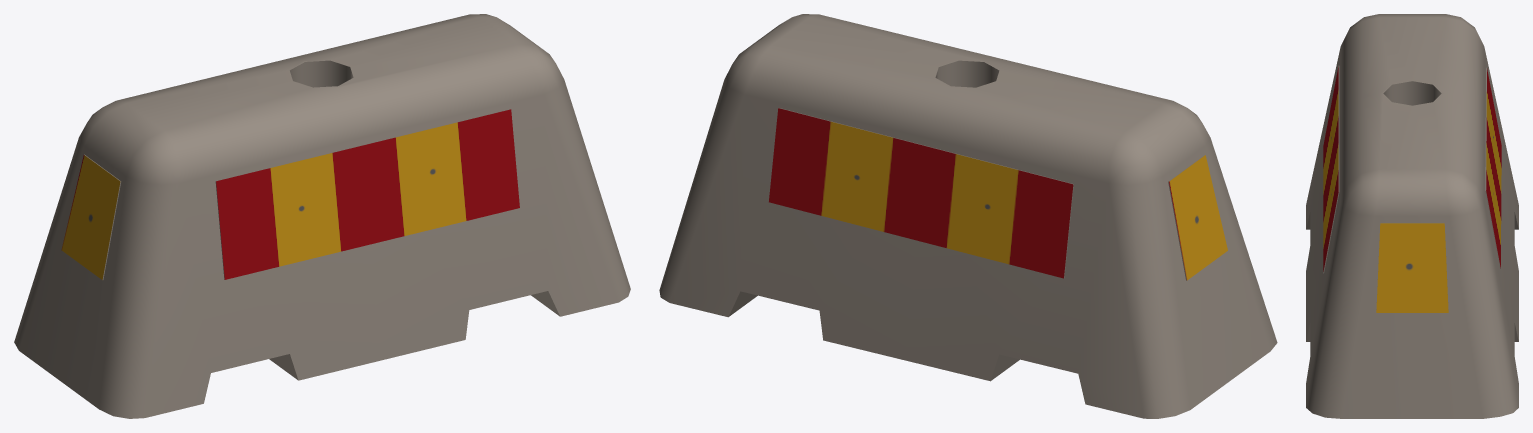
The model's file is cement_roadblock.glb.
3 renders of one model, left to right at view 1: azimuth 30°, elevation 25°; view 2: azimuth 150°, elevation 25°; view 3: azimuth 270°, elevation 25°, orthographic. The views are drawn at different scales.
Parts seen in each view (by area): view 1: Block; view 2: Block; view 3: Block.
Boxes of the visible parts, x1,y1,x2,y2 form: Block: [14, 14, 630, 418]; Block: [659, 14, 1277, 418]; Block: [1306, 14, 1518, 418].
Size of the model in its own units: 1.37 by 0.6041 by 0.5472.
1 material, 1 textured.
